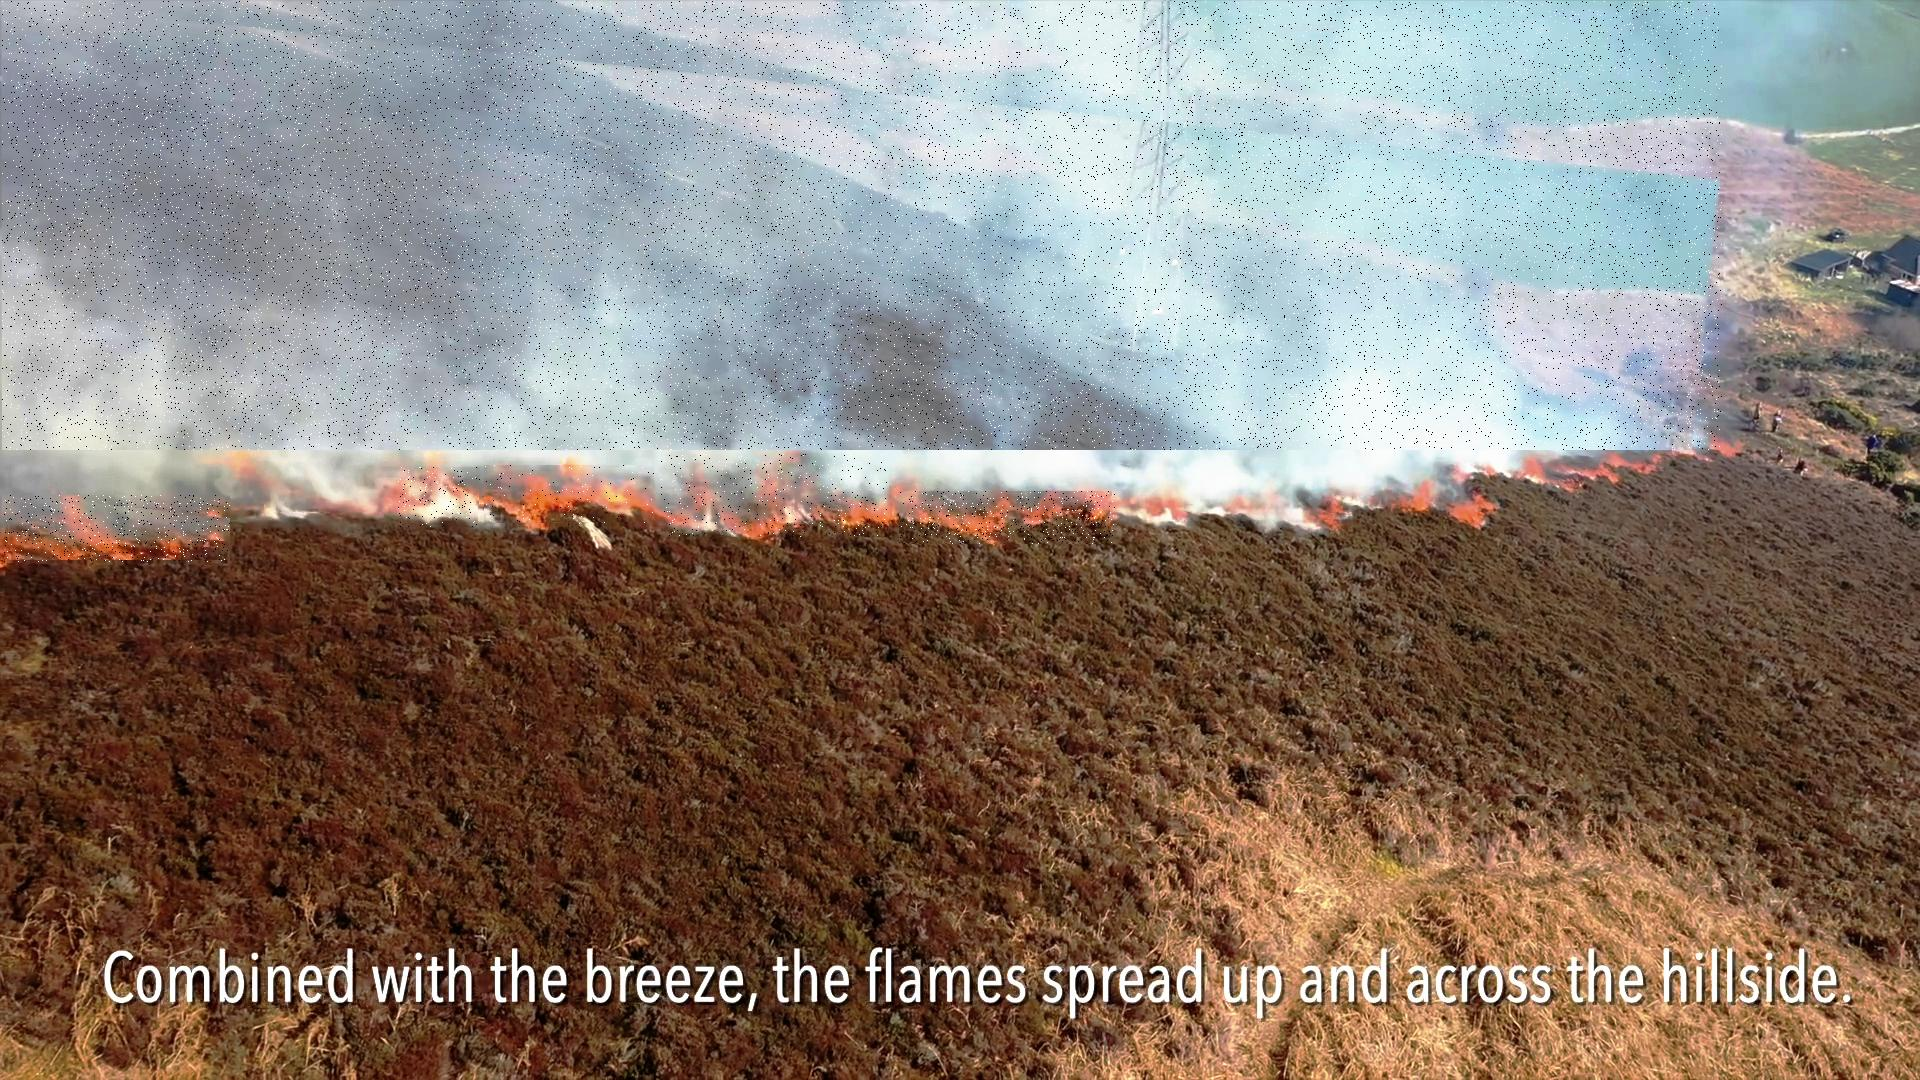fire: (661, 454, 889, 537), (4, 496, 231, 563), (899, 492, 1116, 545), (484, 465, 654, 526), (397, 467, 480, 527)
smoke: (3, 1, 1724, 450)
